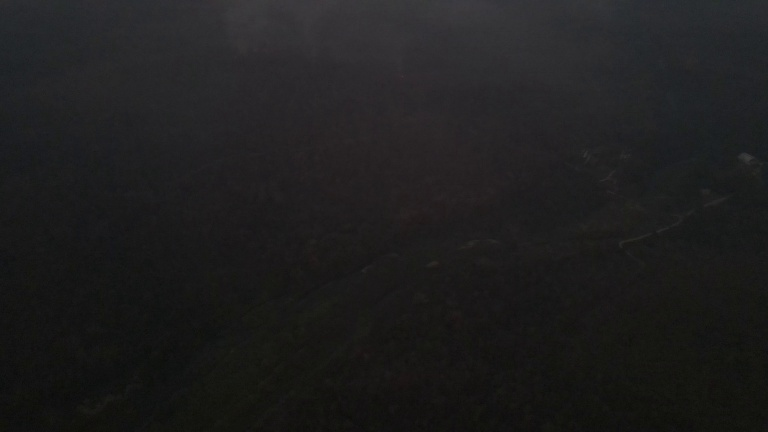fire: (398, 70, 409, 81)
smoke: (214, 1, 405, 72)
